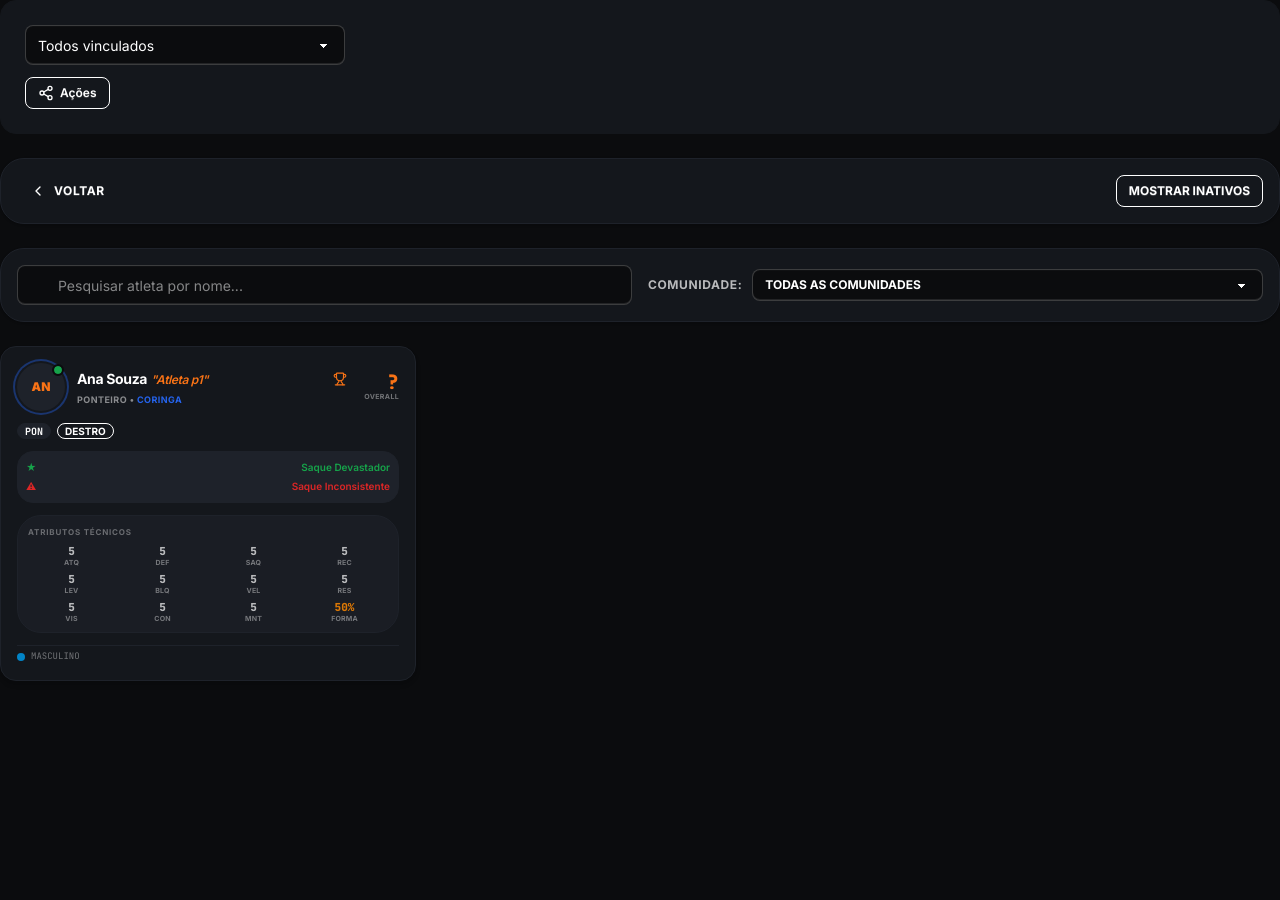
Test: PlayersView › tocar num atleta com conta abre a carta VUT
Click the heading "Ana Souza\"Atleta p1\"" at [143, 379], box [77,370,208,387]
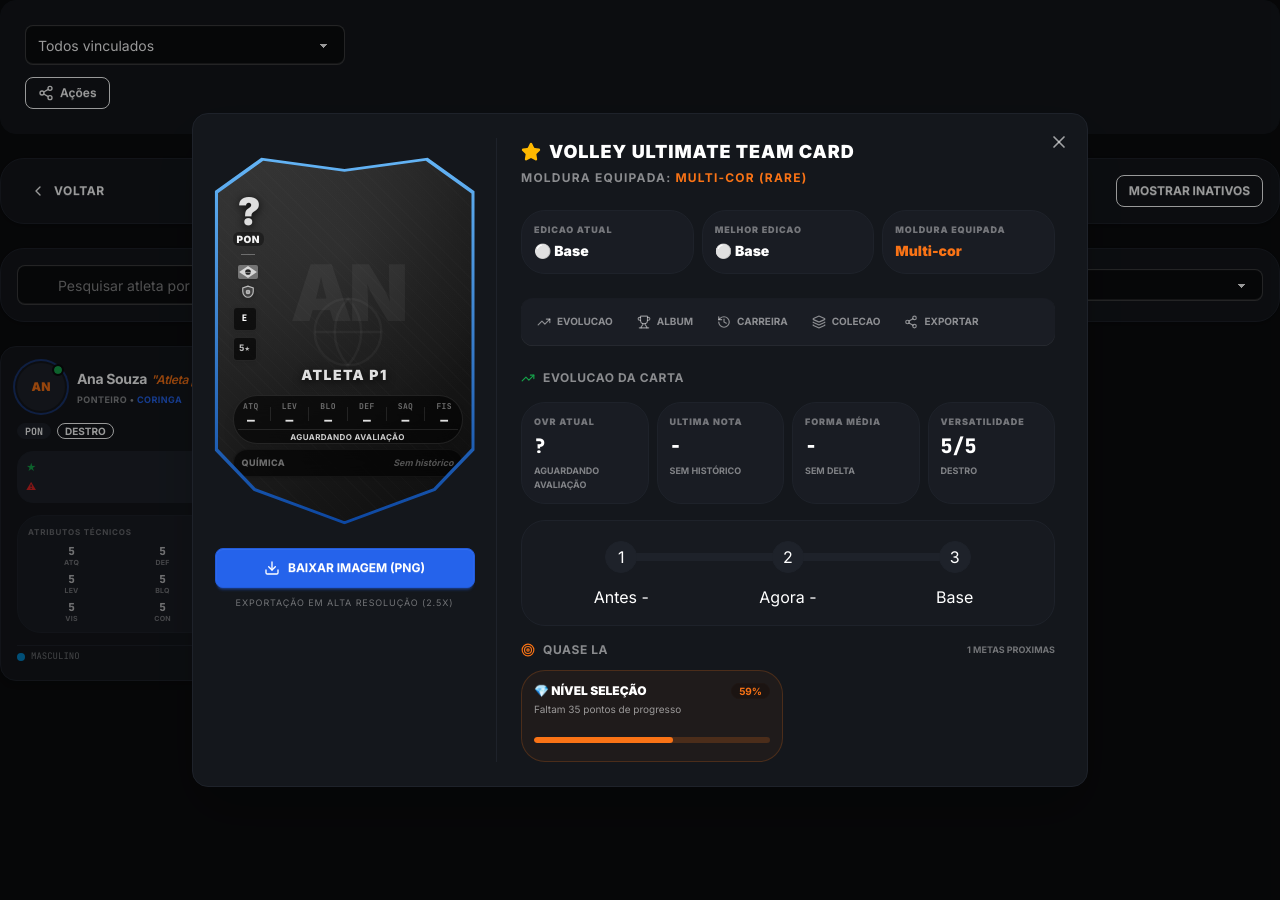
Check: the button named "fechar o card do atleta" is shown, box [1043,126,1075,158]
